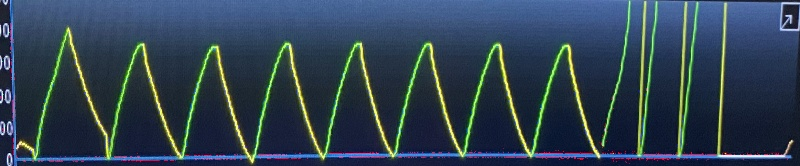normal_volume: (32, 27, 618, 162)
